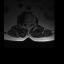CCS_normal: (27, 21, 28, 27)
LFS_normal: (30, 21, 31, 25)
LLS_normal: (28, 21, 30, 26)
RFS_stenosis: (24, 21, 25, 25)
RLS_normal: (25, 21, 27, 26)
